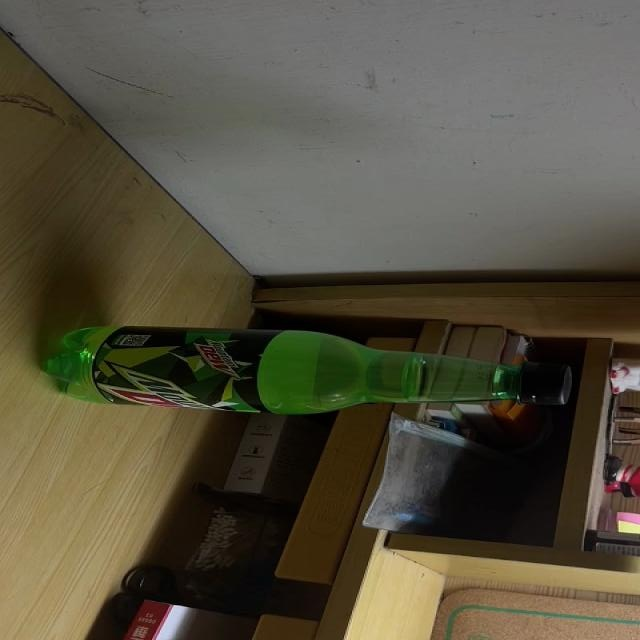Mountain-Dew: (42, 327, 571, 414)
